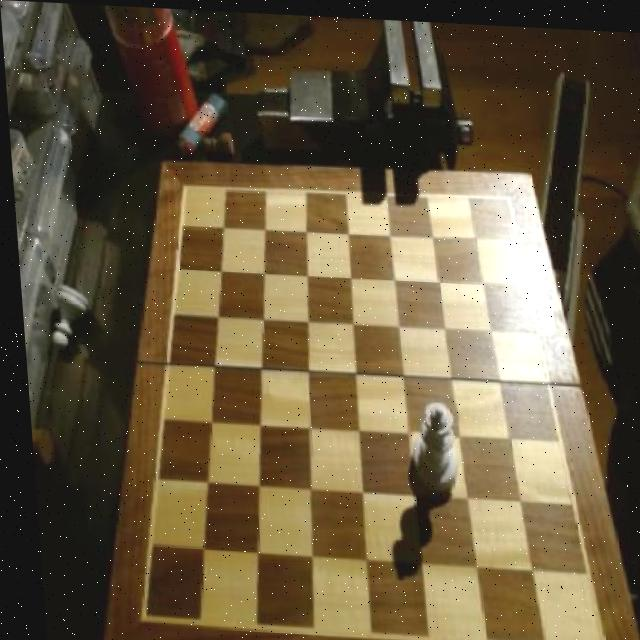white-pawn: (400, 394, 458, 491)
